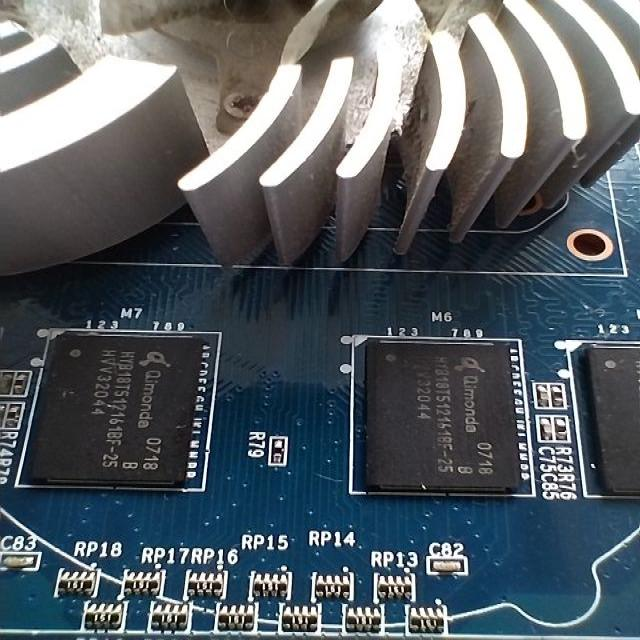capacitor: (425, 536, 475, 582), (529, 376, 553, 416), (533, 411, 555, 447)
resistor: (266, 427, 295, 477)
